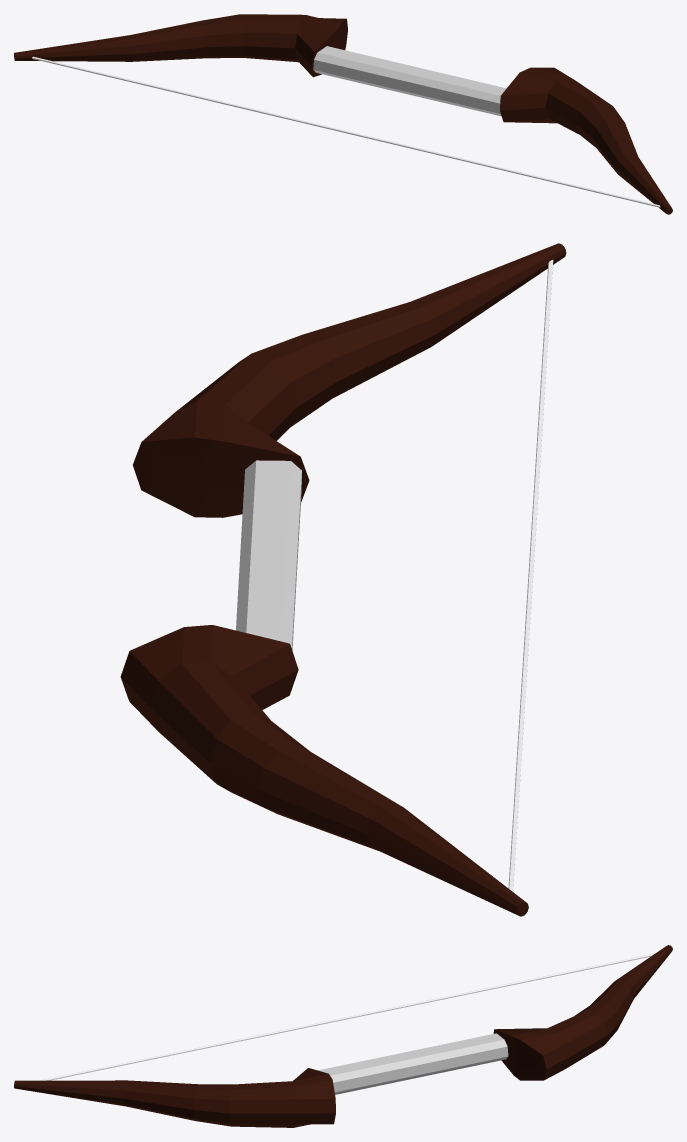
The model's file is Bow.fbx.
The picture shows the model from 3 angles, top to bottom: view 1: azimuth 30°, elevation 25°; view 2: azimuth 150°, elevation 25°; view 3: azimuth 270°, elevation 25°; orthographic projection. The views are drawn at different scales.
Parts seen in each view (by area): view 1: Bow; view 2: Bow; view 3: Bow.
Part boxes in pixels (<box>): Bow: <box>14,14,672,214</box>; Bow: <box>120,243,566,916</box>; Bow: <box>14,945,672,1127</box>.
Size of the model in its own units: 10.17 by 1.23 by 15.83.
